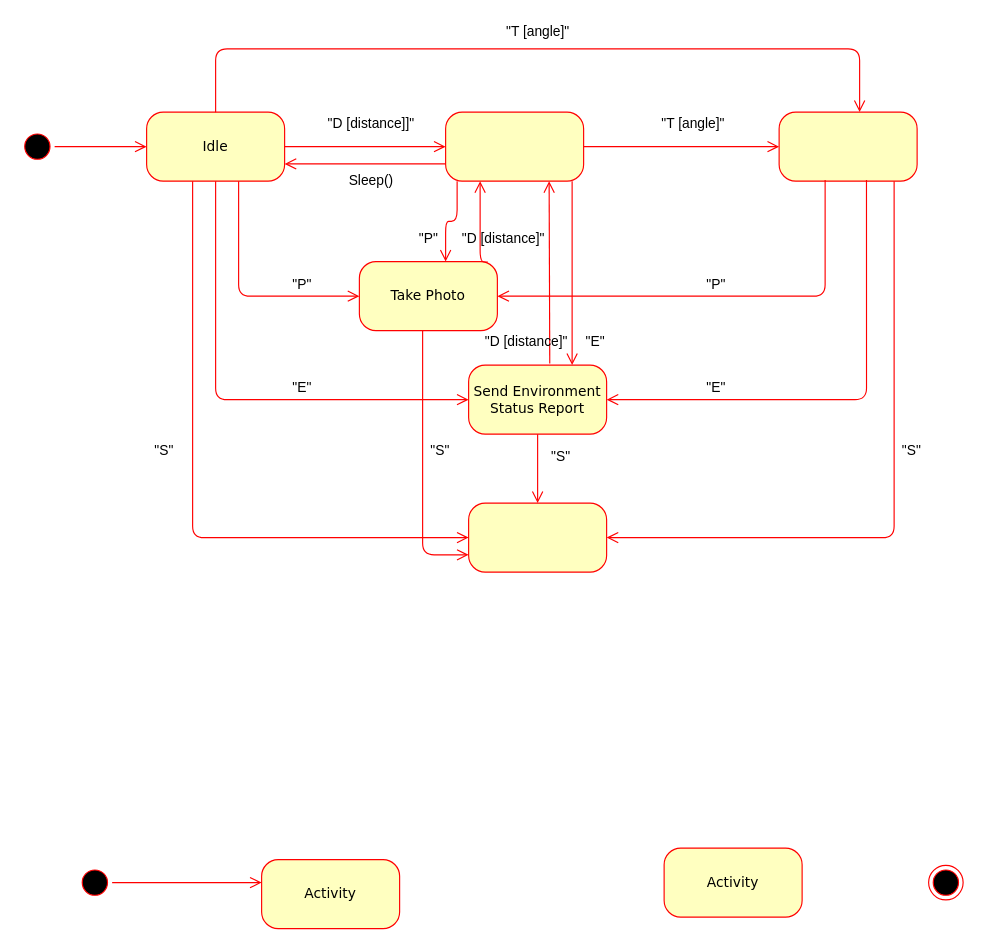
This 983x949 diagram has some shape labels left out. Each missing label, with the centre of its shape:
"Drive" goes at (514,146).
"Soil Chemistry Analysis" goes at (537,537).
"Turn" goes at (847,146).
